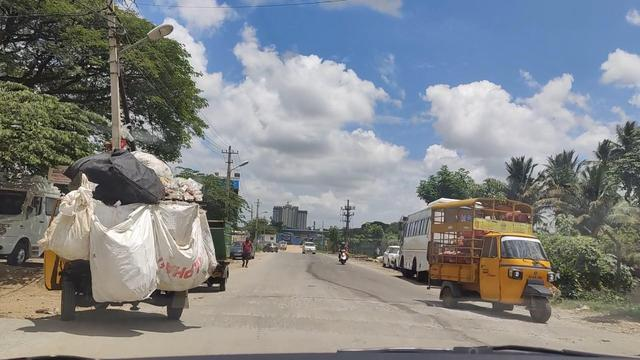HMV: (52, 160, 210, 328), (432, 203, 558, 326)
RoadDamages: (234, 298, 434, 345)
